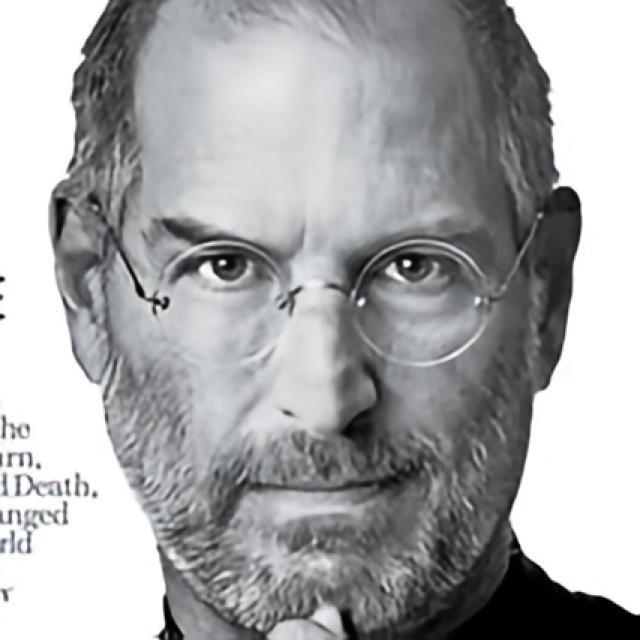content: (110, 0, 535, 640)
